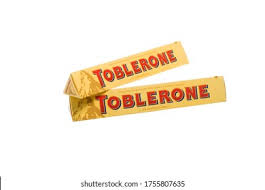Chocolate: (51, 24, 235, 133)
